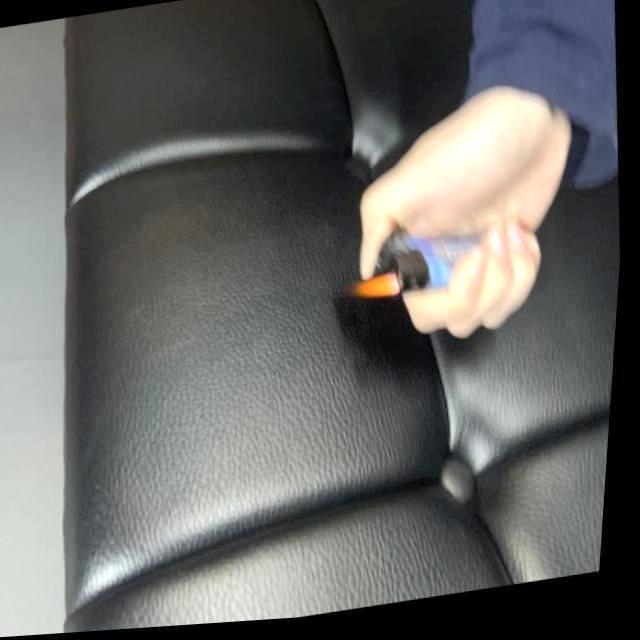fire: (353, 270, 407, 306)
